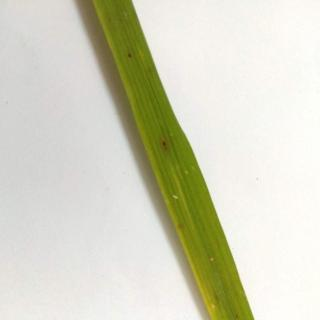bercak-Cokelat: (158, 134, 176, 158), (126, 51, 136, 67)
